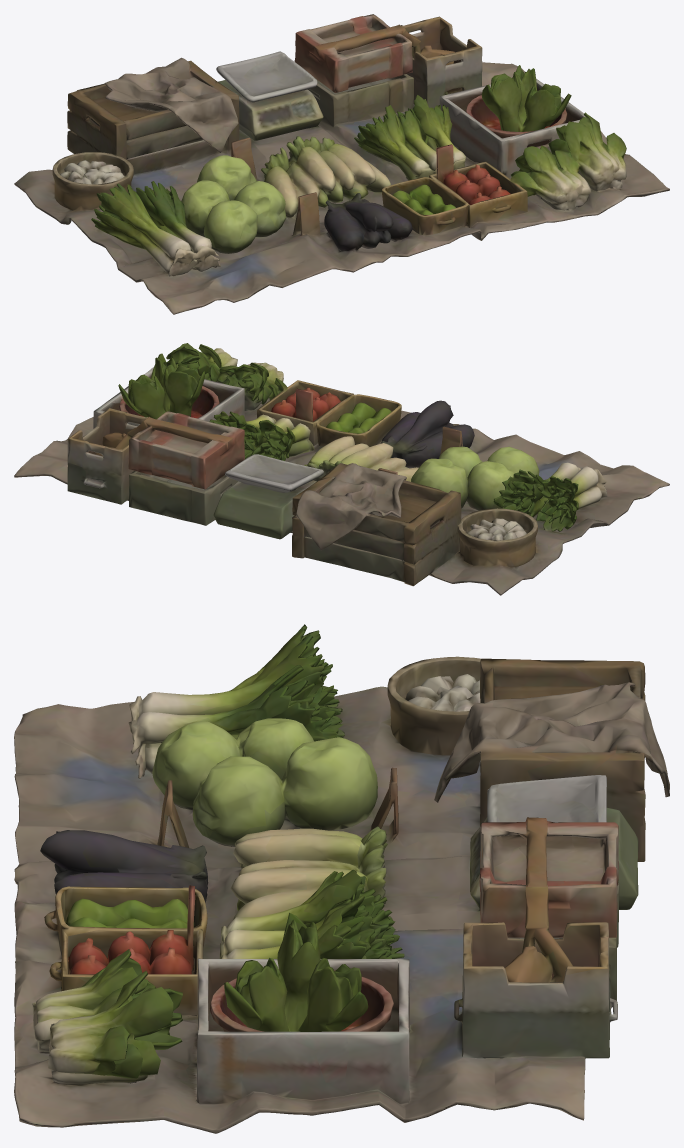
Rendered from tripo_convert_ee8af8c8-bdf0-4d7a-8574-4d1b7812c9d7.fbx.
The picture shows the model from 3 angles, top to bottom: view 1: azimuth 30°, elevation 25°; view 2: azimuth 150°, elevation 25°; view 3: azimuth 270°, elevation 25°; orthographic projection. The views are drawn at different scales.
Parts seen in each view (by area): view 1: tripo_node_ee8af8c8; view 2: tripo_node_ee8af8c8; view 3: tripo_node_ee8af8c8.
Boxes of the visible parts, x1,y1,x2,y2 form: tripo_node_ee8af8c8: [14, 14, 669, 314]; tripo_node_ee8af8c8: [14, 343, 669, 595]; tripo_node_ee8af8c8: [14, 624, 669, 1133].
Size of the model in its own units: 1 by 0.168 by 0.6669.
Materials: 1 (1 with a texture image).
